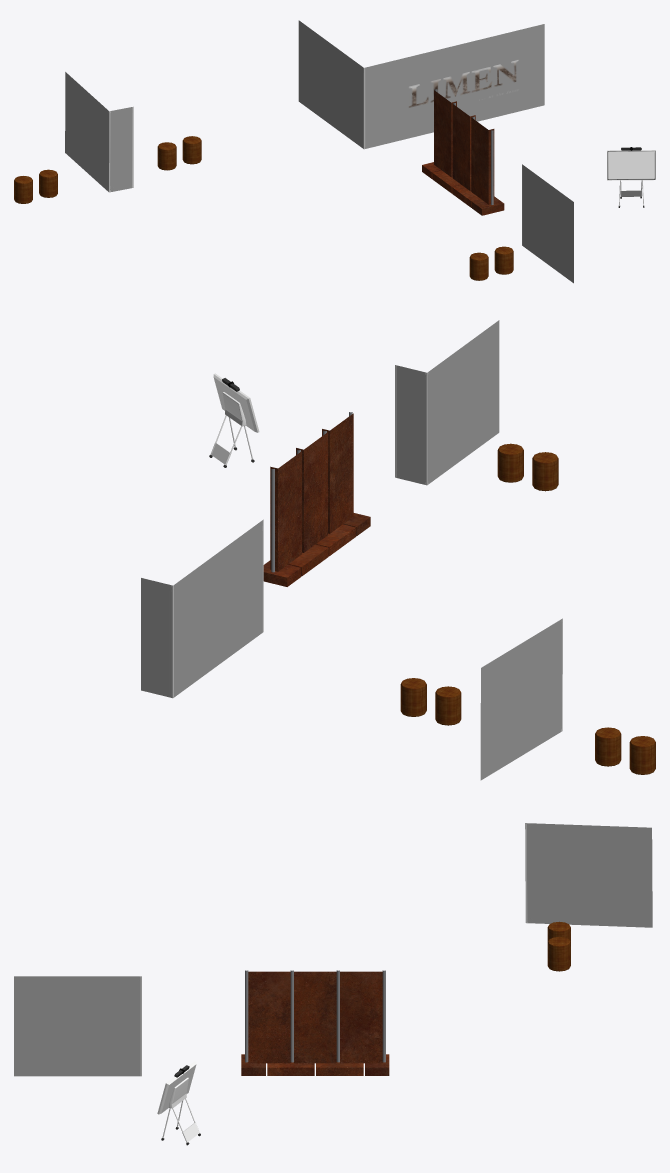
File: props_2.glb
The picture shows the model from 3 angles, top to bottom: view 1: azimuth 30°, elevation 25°; view 2: azimuth 150°, elevation 25°; view 3: azimuth 270°, elevation 25°; orthographic projection. The views are drawn at different scales.
Parts seen in each view (by area): view 1: pCylinder5; view 2: pCylinder5; view 3: pCylinder5.
Boxes of the visible parts, x1,y1,x2,y2 form: pCylinder5: (14,20,655,283); pCylinder5: (141,320,655,780); pCylinder5: (14,823,652,1145).
Size of the model in its own units: 14.81 by 2.33 by 13.52.
Materials: 1 (1 with a texture image).
